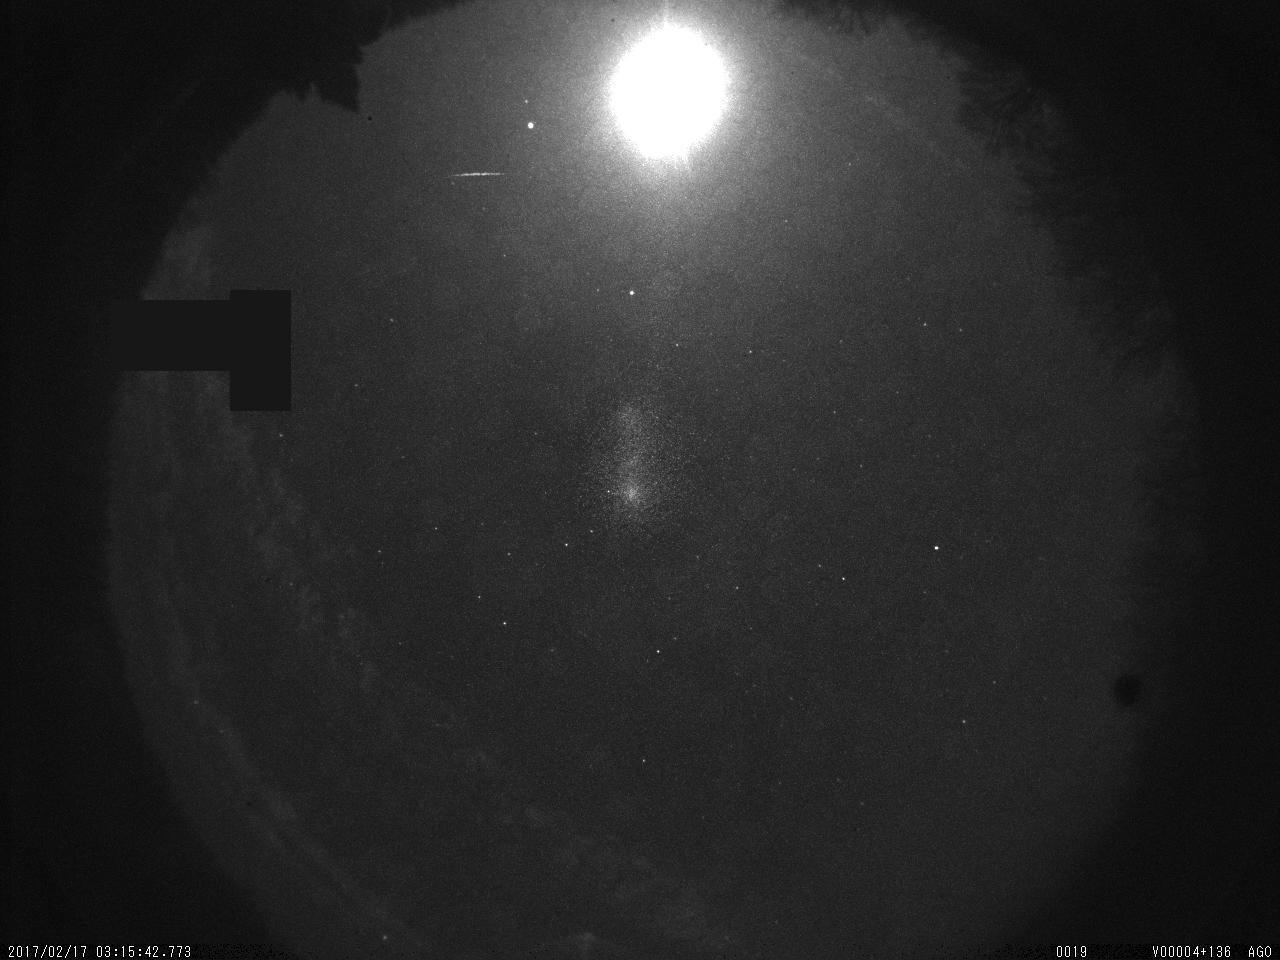meteor: (430, 165, 513, 187)
